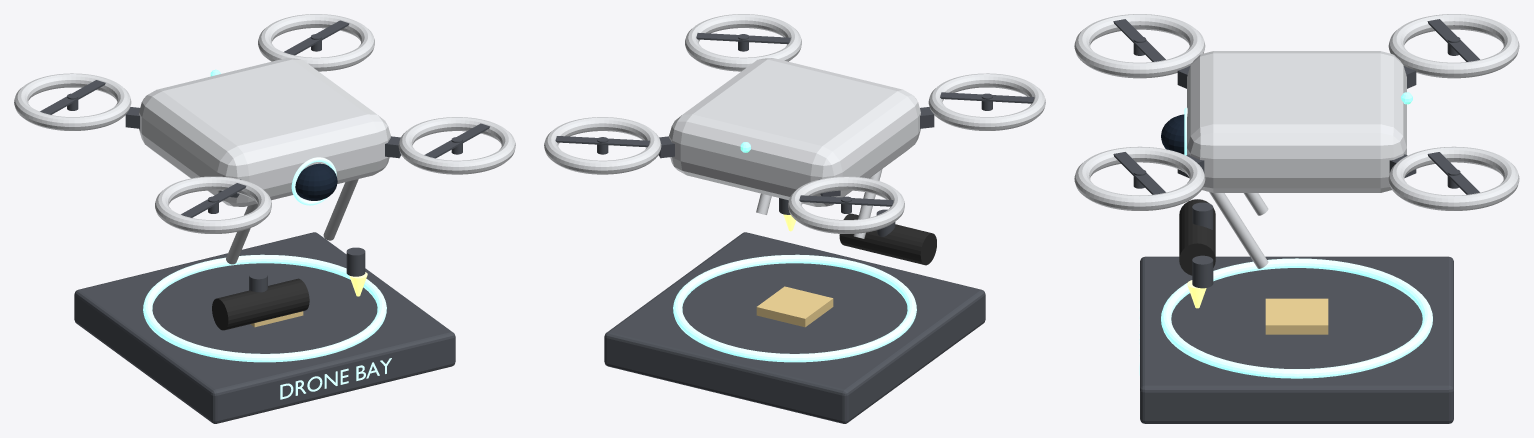
The model's file is maintenance_drone.glb.
The picture shows the model from 3 angles, left to right: view 1: azimuth 30°, elevation 25°; view 2: azimuth 150°, elevation 25°; view 3: azimuth 270°, elevation 25°; orthographic projection. The views are drawn at different scales.
Visible parts, largest first — view 1: Dock_Pad, Drone_Body, Dock_Guide, Duct.002, Duct, Duct.001, Dust_Brush, Duct.003, Camera_Dome, Dock_Label, Tool_Arm.001, Tool_Head.001 (+6 smaller); view 2: Dock_Pad, Drone_Body, Dock_Guide, Duct.003, Duct.001, Duct, Duct.002, Dust_Brush, Charge_Contacts, Rotor, Rotor.001, Rotor.002 (+1 smaller); view 3: Dock_Pad, Drone_Body, Dock_Guide, Duct.003, Duct.002, Duct.001, Duct, Charge_Contacts, Dust_Brush, Tool_Arm.001, Camera_Dome, Tool_Head.001 (+5 smaller).
Boxes of the visible parts, <box> form: Dock_Pad: <box>74,232,455,423</box>; Drone_Body: <box>139,58,390,206</box>; Dock_Guide: <box>143,254,386,362</box>; Duct.002: <box>398,117,515,174</box>; Duct: <box>155,176,271,233</box>; Duct.001: <box>14,73,131,130</box>; Dust_Brush: <box>212,278,309,330</box>; Duct.003: <box>258,14,374,71</box>; Camera_Dome: <box>295,163,337,200</box>; Dock_Label: <box>280,358,391,399</box>; Tool_Arm.001: <box>323,179,358,240</box>; Tool_Head.001: <box>346,247,365,276</box>; Dock_Pad: <box>604,232,985,423</box>; Drone_Body: <box>669,58,920,206</box>; Dock_Guide: <box>673,254,916,362</box>; Duct.003: <box>544,117,661,174</box>; Duct.001: <box>788,176,904,233</box>; Duct: <box>928,73,1045,130</box>; Duct.002: <box>685,14,801,71</box>; Dust_Brush: <box>839,213,936,265</box>; Charge_Contacts: <box>756,286,833,327</box>; Rotor: <box>940,92,1034,103</box>; Rotor.001: <box>799,195,893,206</box>; Rotor.002: <box>696,33,790,44</box>; Dock_Pad: <box>1140,256,1453,423</box>; Drone_Body: <box>1187,51,1406,192</box>; Dock_Guide: <box>1161,258,1432,378</box>; Duct.003: <box>1388,146,1519,210</box>; Duct.002: <box>1074,146,1205,210</box>; Duct.001: <box>1388,14,1519,78</box>; Duct: <box>1074,14,1205,78</box>; Charge_Contacts: <box>1265,298,1328,334</box>; Dust_Brush: <box>1179,199,1215,275</box>; Tool_Arm.001: <box>1209,192,1268,268</box>; Camera_Dome: <box>1161,114,1184,154</box>; Tool_Head.001: <box>1192,255,1213,288</box>.
Size of the model in its own units: 0.85 by 0.57 by 0.85.
